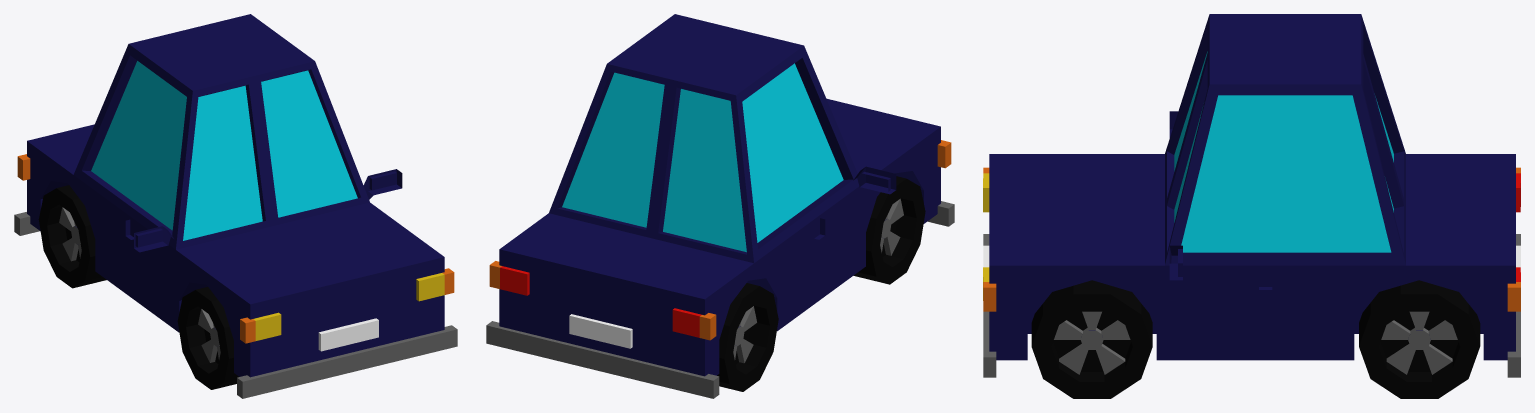
Rendered from Car.fbx.
The picture shows the model from 3 angles, left to right: view 1: azimuth 30°, elevation 25°; view 2: azimuth 150°, elevation 25°; view 3: azimuth 270°, elevation 25°; orthographic projection. The views are drawn at different scales.
Visible parts, largest first — view 1: Car Body, Back Right Wheel, Front Right Wheel; view 2: Car Body, Back Right Wheel, Front Right Wheel; view 3: Car Body, Back Left Wheel, Front Left Wheel.
Boxes of the visible parts, x1=… form: Car Body: x1=14, y1=14, x2=457, y2=398; Back Right Wheel: x1=38, y1=185, x2=106, y2=288; Front Right Wheel: x1=177, y1=287, x2=238, y2=389; Car Body: x1=486, y1=14, x2=954, y2=398; Back Right Wheel: x1=717, y1=283, x2=778, y2=391; Front Right Wheel: x1=853, y1=176, x2=925, y2=284; Car Body: x1=983, y1=14, x2=1520, y2=377; Back Left Wheel: x1=1359, y1=280, x2=1480, y2=398; Front Left Wheel: x1=1031, y1=280, x2=1152, y2=398.
Bounding box in the file's own units: 333 × 300 × 501.
